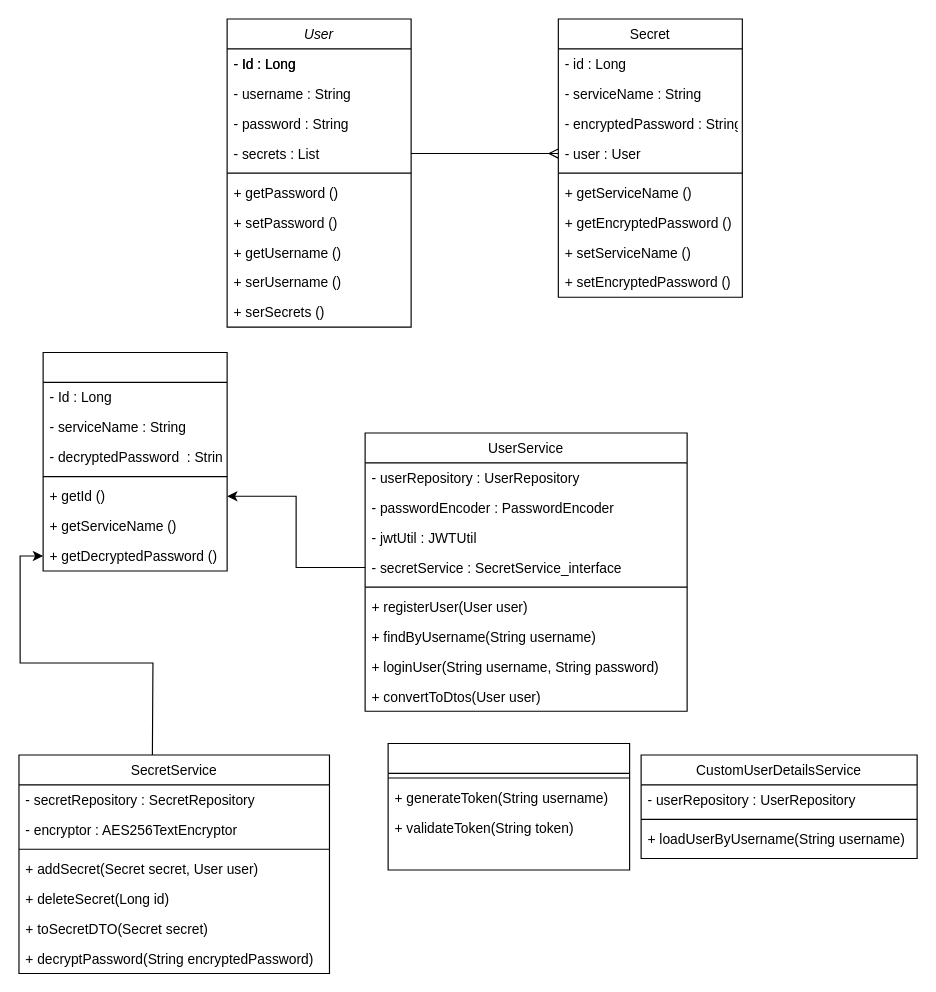
Some shapes in this 936 by 992 pixel diagram are drawn without their labels. Here are the shapes that lost their labels. From the top down, the box of each, then its label:
(42, 351, 227, 571): SecretDto
(387, 742, 630, 870): JWTUtil
